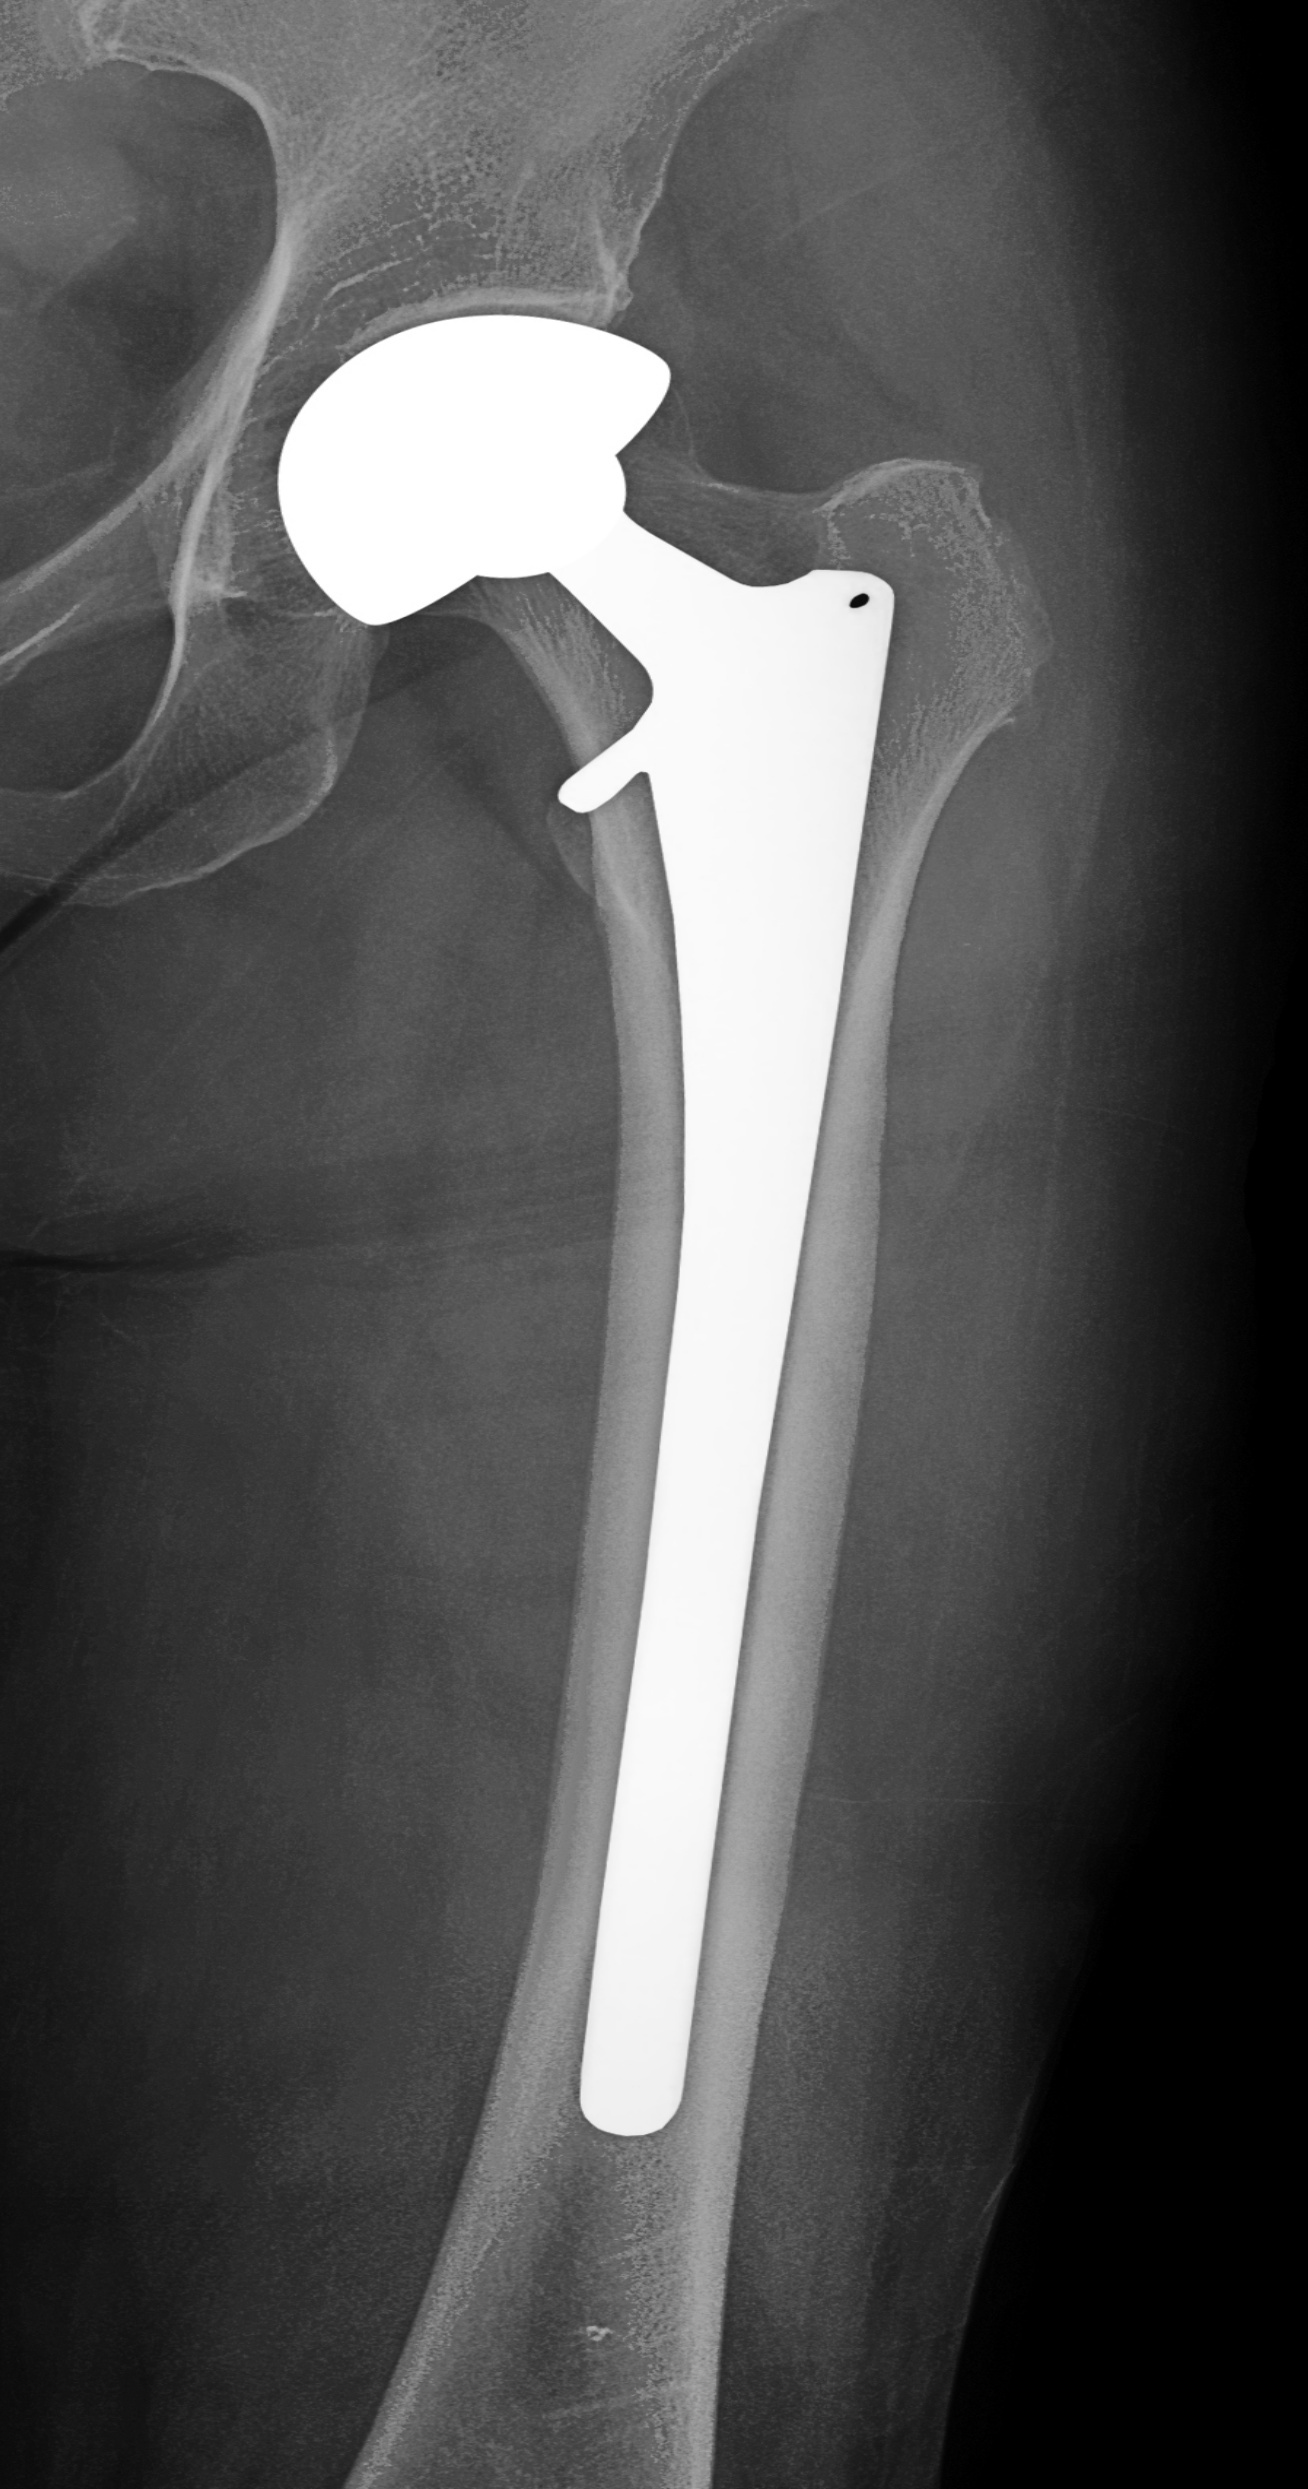Hip-Bias-Zimmer: (229, 308, 900, 2147)
